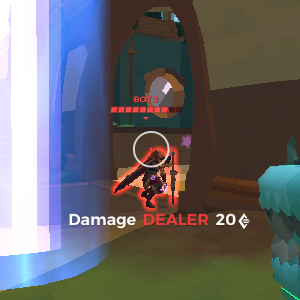model: (125, 137, 179, 217)
